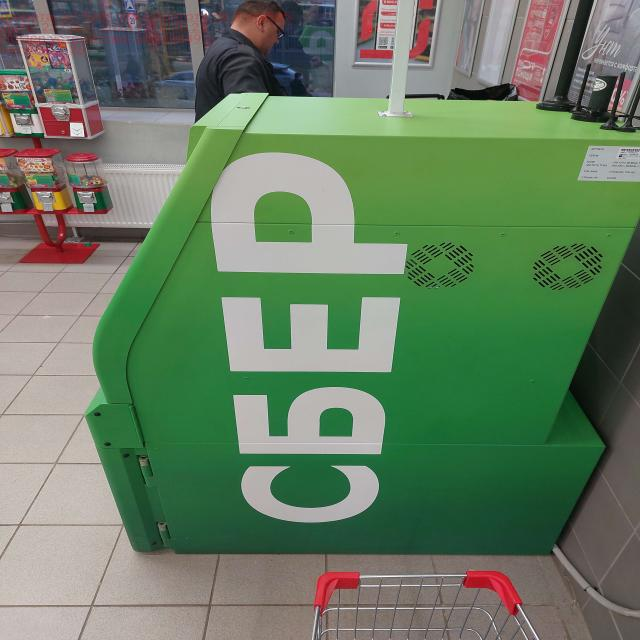bank: (85, 88, 640, 555)
